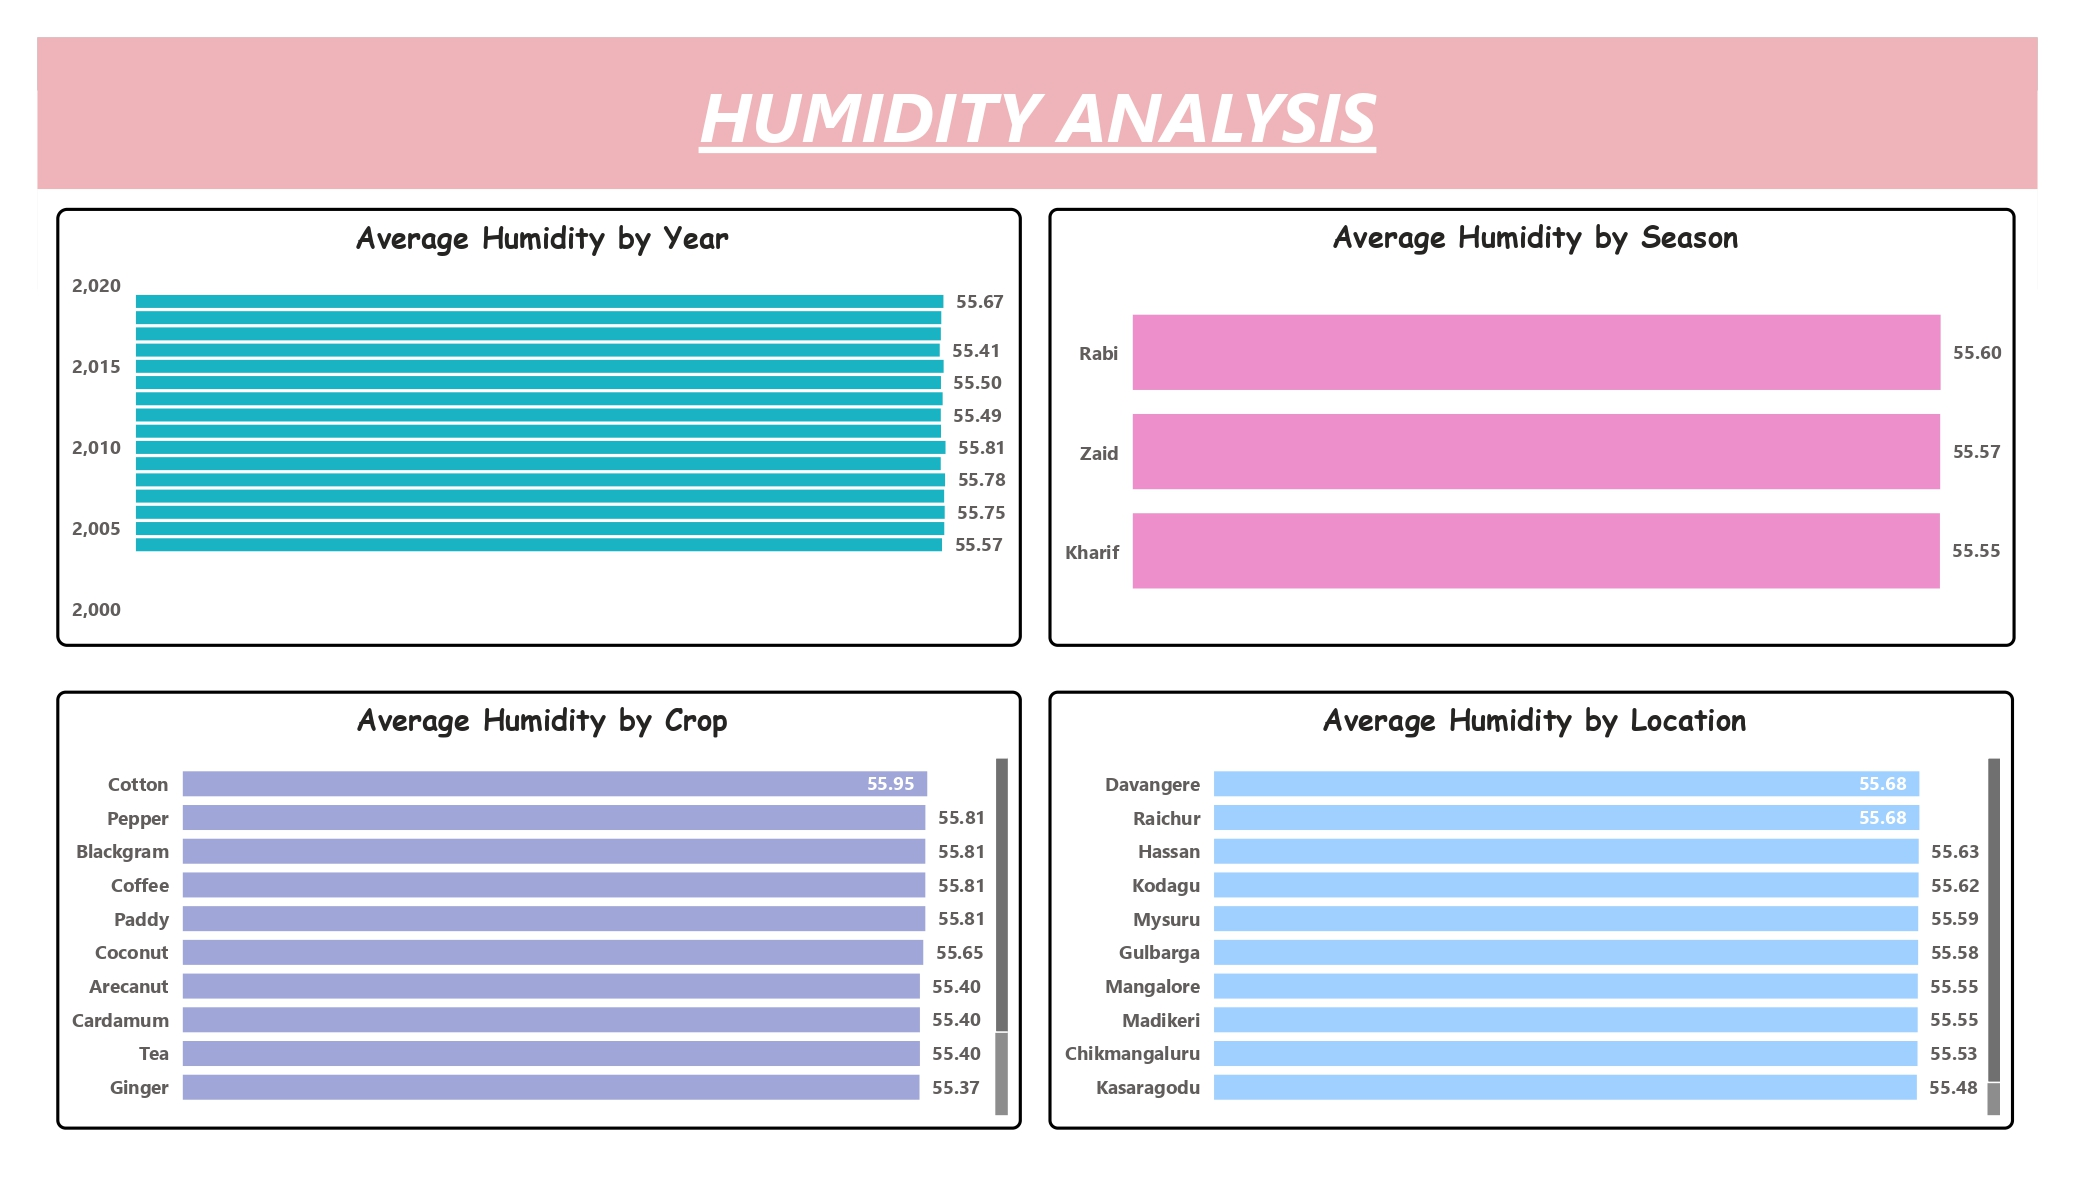

What the dashboard file says about the page in this screenshot:
{"tool":"powerbi","page":{"name":"Humidity Analysis","canvas":[1280,720],"ordinal":2},"visuals":[{"type":"shape","box":[0,0,1279.8,96.8],"z":0},{"type":"barChart","title":"Average  Humidity by Year","fields":{"Category":["AGRICULTURE.YEAR"],"Y":["Avg(AGRICULTURE.HUMIDITY)"]},"box":[11.7,109,618,281.5],"z":1000},{"type":"barChart","title":"Average  Humidity by Season","fields":{"Category":["AGRICULTURE.SEASON"],"Y":["Avg(AGRICULTURE.HUMIDITY)"]},"box":[647.4,109,618.8,281.5],"z":2000},{"type":"barChart","title":"Average  Humidity by Crop","fields":{"Category":["AGRICULTURE.CROPS"],"Y":["Avg(AGRICULTURE.HUMIDITY)"]},"box":[11.7,417.7,618,281],"z":3000},{"type":"barChart","title":"Average  Humidity by Location","fields":{"Category":["AGRICULTURE.LOCATION"],"Y":["Avg(AGRICULTURE.HUMIDITY)"]},"box":[647.4,417.7,618,281.5],"z":4000}]}

Visuals, with their boxes in screenshot pixels (x1, y1, x2, y2):
shape: left=38, top=38, right=2037, bottom=189
"Average  Humidity by Year" barChart: left=56, top=208, right=1021, bottom=648
"Average  Humidity by Season" barChart: left=1049, top=208, right=2016, bottom=648
"Average  Humidity by Crop" barChart: left=56, top=690, right=1021, bottom=1129
"Average  Humidity by Location" barChart: left=1049, top=690, right=2015, bottom=1130
